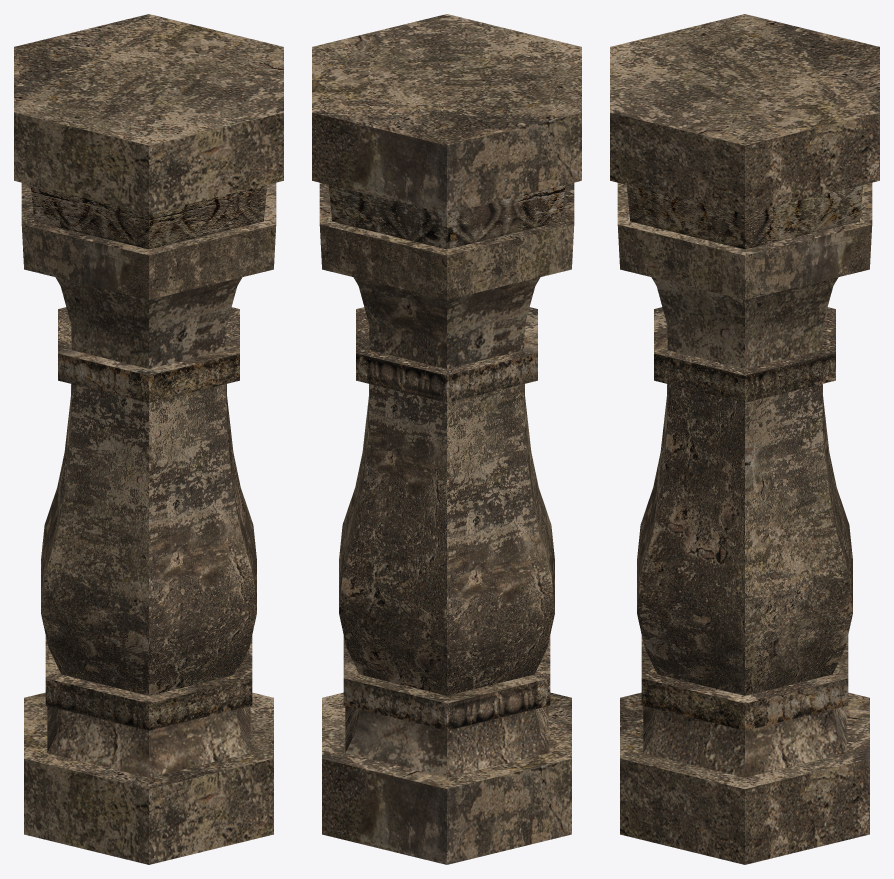
The model's file is materials_5_pillar_short_6.fbx.
3 views of the same model, side by side, from view 1: azimuth 30°, elevation 25°; view 2: azimuth 150°, elevation 25°; view 3: azimuth 270°, elevation 25° (orthographic).
Parts seen in each view (by area): view 1: materials_5_pillar_short_6; view 2: materials_5_pillar_short_6; view 3: materials_5_pillar_short_6.
Part boxes in pixels (left/top/right/bottom): materials_5_pillar_short_6: left=14, top=14, right=283, bottom=864; materials_5_pillar_short_6: left=312, top=14, right=581, bottom=864; materials_5_pillar_short_6: left=610, top=14, right=879, bottom=864.
Size of the model in its own units: 43.83 by 112 by 37.95.
